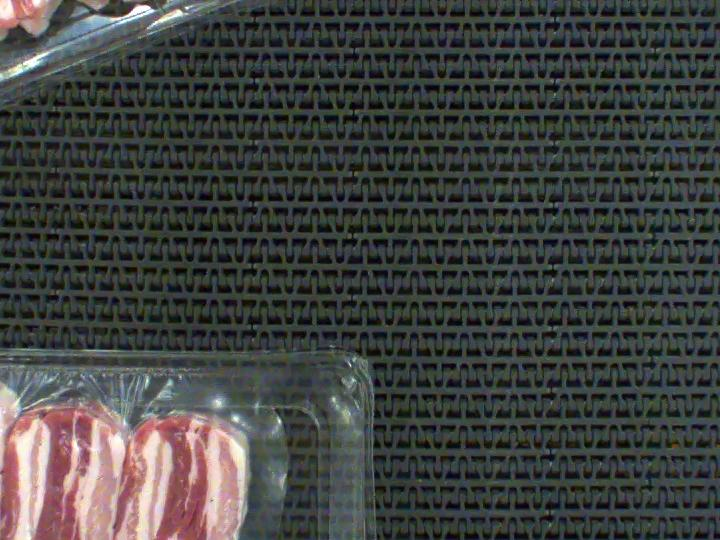unsealed: (0, 381, 298, 540)
